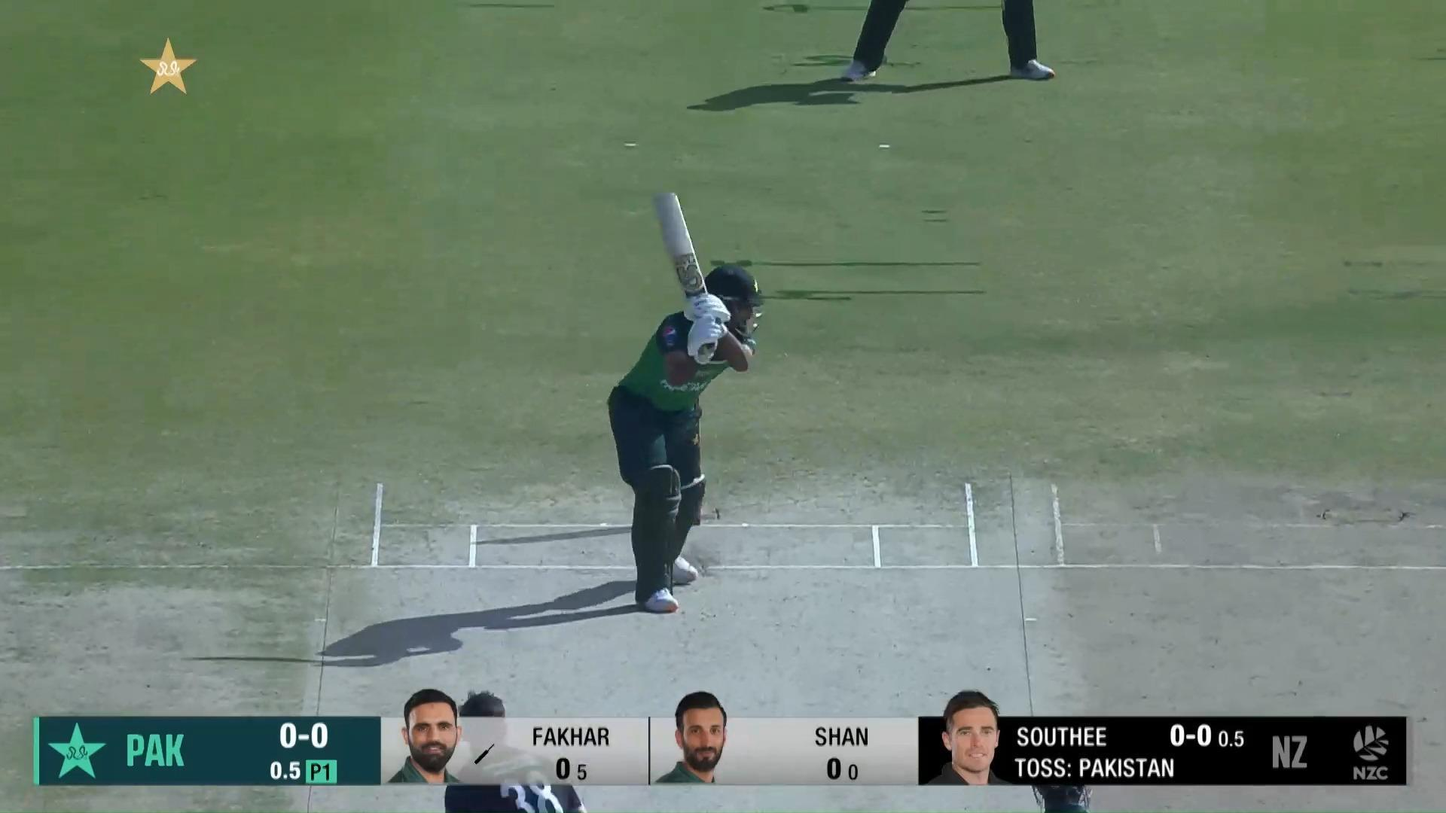BM 1: (609, 189, 763, 614)
BO: (442, 687, 592, 813)
